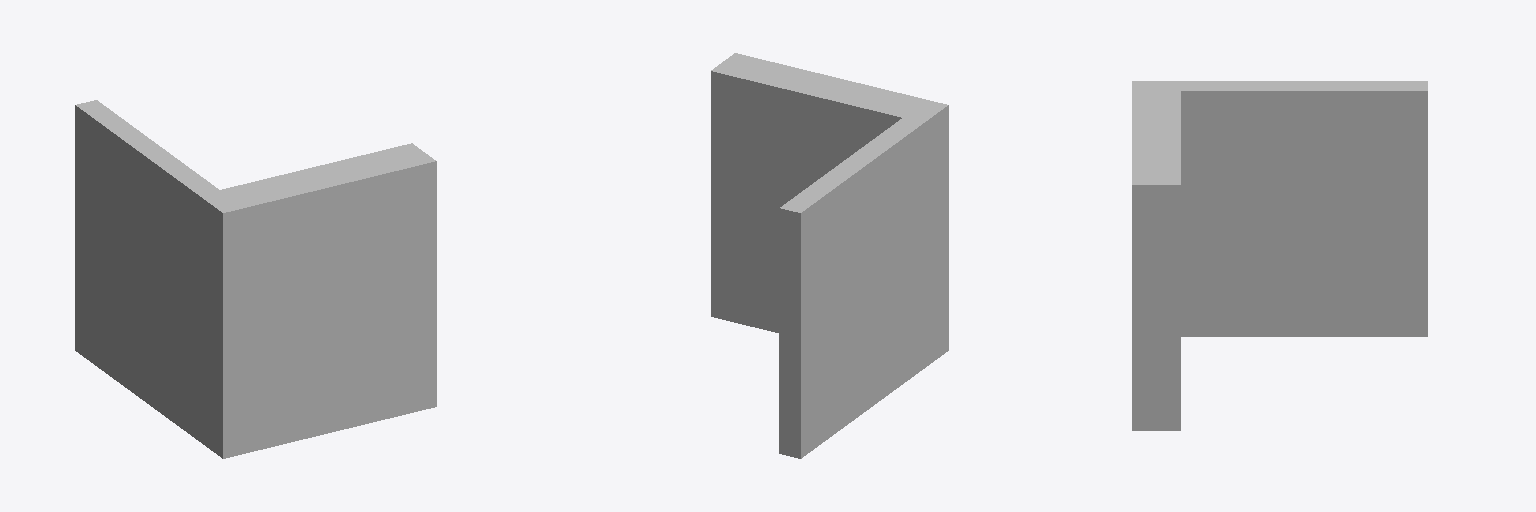
File: homedecor_medicine_cabinet_open.obj
3 renders of one model, left to right at view 1: azimuth 30°, elevation 25°; view 2: azimuth 150°, elevation 25°; view 3: azimuth 270°, elevation 25°, orthographic.
Visible parts, largest first — view 1: Cylinder; view 2: Cylinder; view 3: Cylinder.
Boxes of the visible parts, x1=… form: Cylinder: x1=75, y1=100, x2=436, y2=458; Cylinder: x1=711, y1=53, x2=948, y2=458; Cylinder: x1=1132, y1=81, x2=1427, y2=430.
Bounding box in the file's own units: 0.625 × 0.6875 × 0.75.